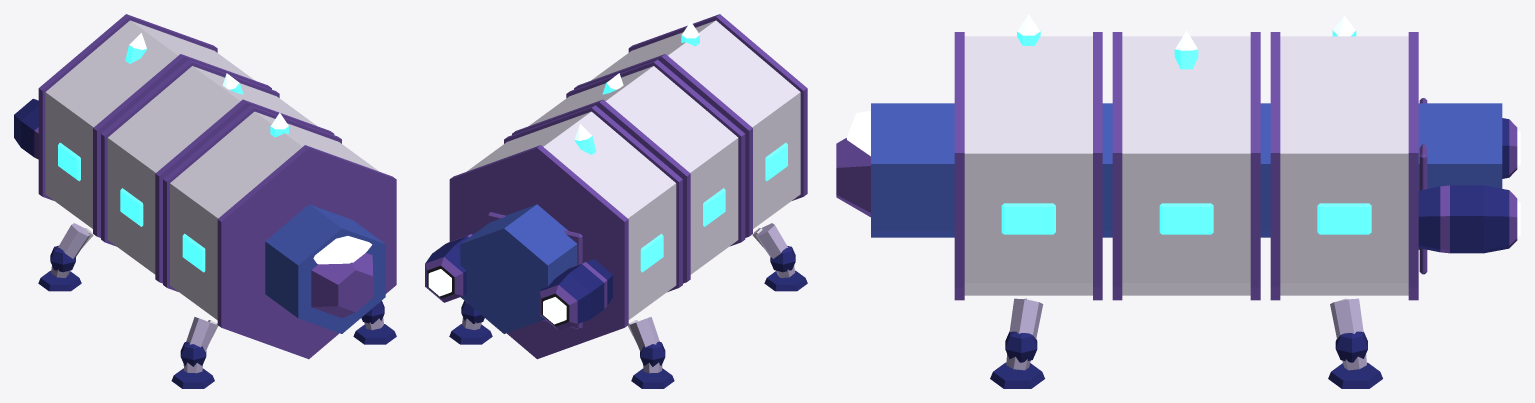
File: pri-f_gelandet.glb
The picture shows the model from 3 angles, left to right: view 1: azimuth 30°, elevation 25°; view 2: azimuth 150°, elevation 25°; view 3: azimuth 270°, elevation 25°; orthographic projection. The views are drawn at different scales.
Parts seen in each view (by area): view 1: frachtsegment_1, frachtsegment_2, frachtsegment_3, rückgrat, cockpit, landebein_2, landebein_4, triebwerk_r, landebein_1, kristallakzente; view 2: frachtsegment_3, frachtsegment_2, frachtsegment_1, rückgrat, triebwerk_r, triebwerk_l, landebein_4, landebein_2, landebein_3, kristallakzente, rampe; view 3: frachtsegment_3, frachtsegment_1, frachtsegment_2, rückgrat, triebwerk_l, landebein_1, landebein_3, cockpit, kristallakzente, triebwerk_r, rampe.
Boxes of the visible parts, box(x1,y1,x2,y2) form: frachtsegment_1: box(163, 105, 396, 359); frachtsegment_2: box(101, 59, 334, 283); frachtsegment_3: box(38, 14, 271, 237); rückgrat: box(265, 204, 385, 333); cockpit: box(311, 236, 373, 317); landebein_2: box(171, 317, 218, 388); landebein_4: box(38, 223, 93, 291); triebwerk_r: box(14, 98, 38, 159); landebein_1: box(353, 300, 396, 344); kristallakzente: box(125, 33, 288, 137); frachtsegment_3: box(449, 105, 682, 359); frachtsegment_2: box(512, 59, 745, 283); frachtsegment_1: box(574, 14, 807, 237); rückgrat: box(460, 204, 577, 333); triebwerk_r: box(539, 259, 612, 330); triebwerk_l: box(425, 232, 475, 302); landebein_4: box(628, 317, 674, 388); landebein_2: box(752, 223, 807, 291); landebein_3: box(449, 301, 492, 344); kristallakzente: box(574, 21, 699, 154); rampe: box(487, 212, 582, 329); frachtsegment_3: box(1270, 32, 1418, 300); frachtsegment_1: box(954, 32, 1102, 300); frachtsegment_2: box(1112, 32, 1260, 300); rückgrat: box(871, 103, 1502, 237); triebwerk_l: box(1418, 185, 1520, 253); landebein_1: box(990, 298, 1044, 388); landebein_3: box(1328, 298, 1382, 388); cockpit: box(836, 111, 870, 217); kristallakzente: box(1017, 14, 1356, 69); triebwerk_r: box(1502, 118, 1520, 178); rampe: box(1418, 98, 1427, 274).
Bounding box in the file's own units: 0.0796 × 0.0862 × 0.1734.
